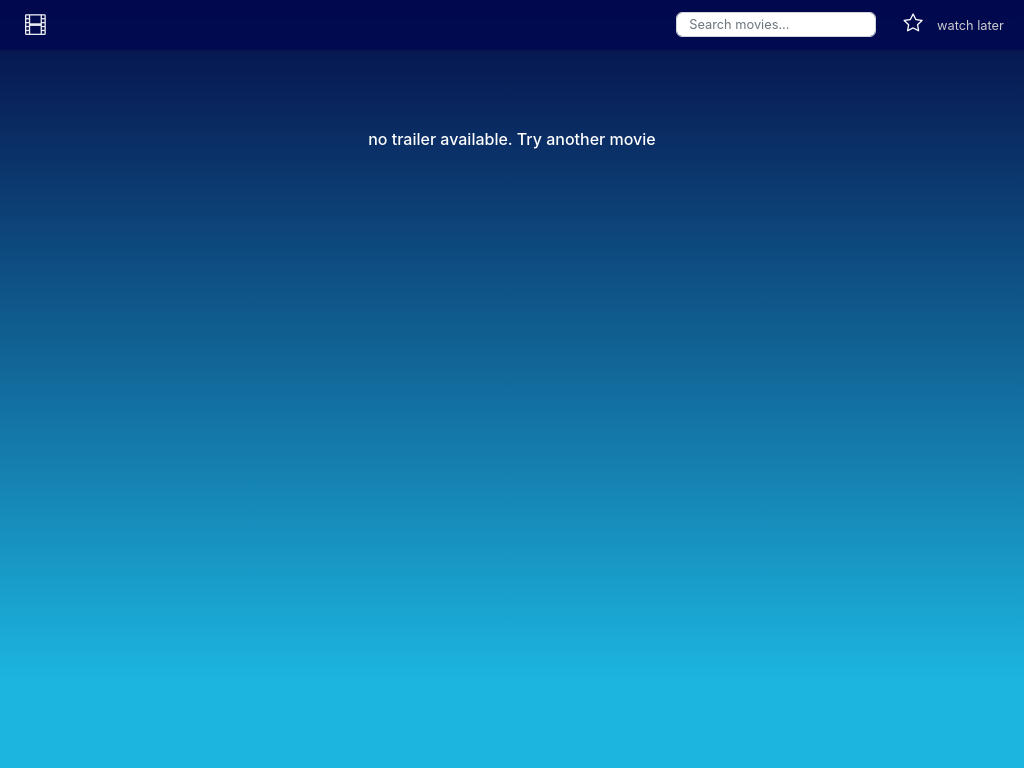
renders watch later component
This screenshot has width=1024, height=768.
Click the link "watch later" at (970, 26), box [937,16,1004,35]
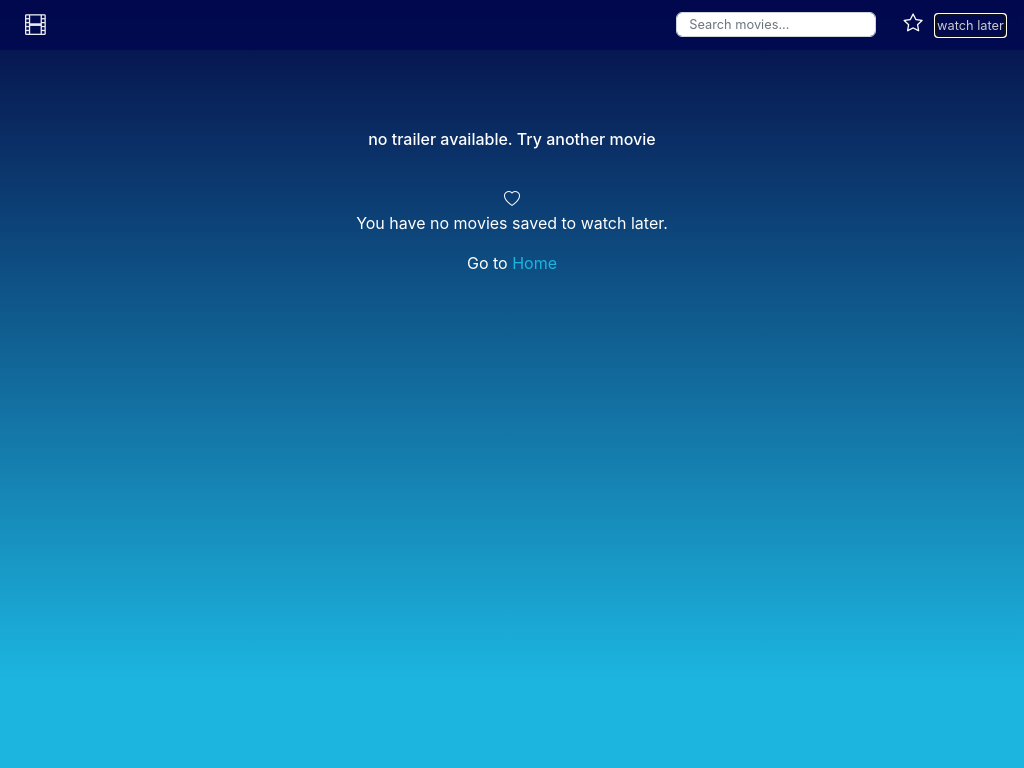
Expected: the text "You have no movies saved to watch later." is shown, [356,213,668,233]
